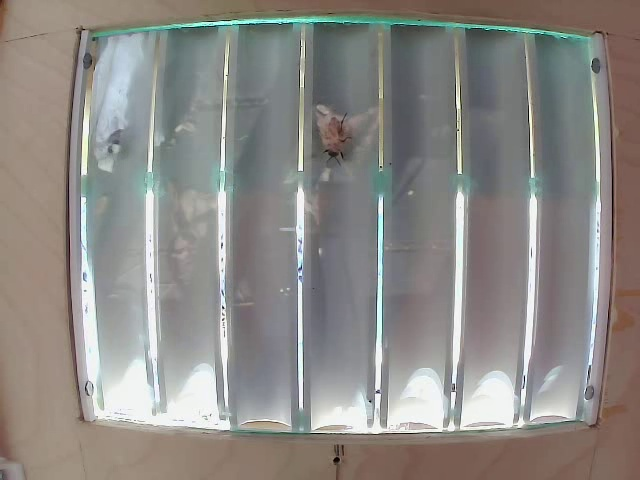bee: (311, 113, 343, 171)
